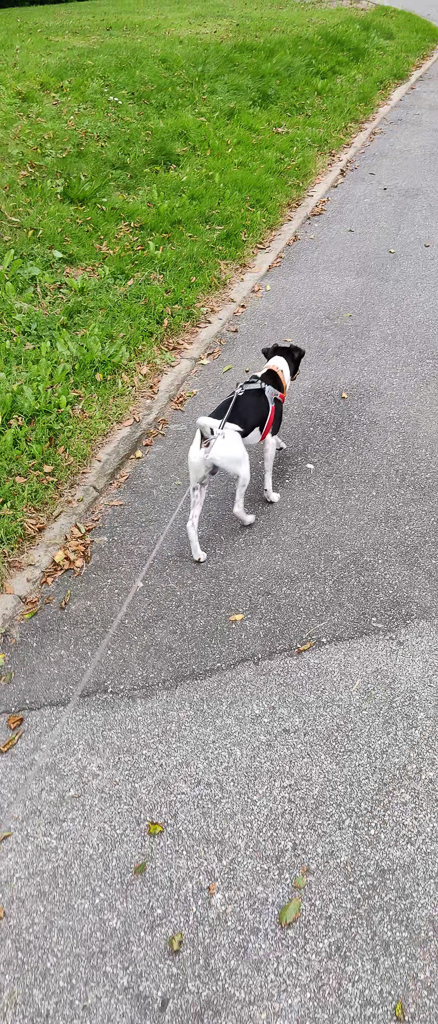Dog: (167, 340, 323, 566)
